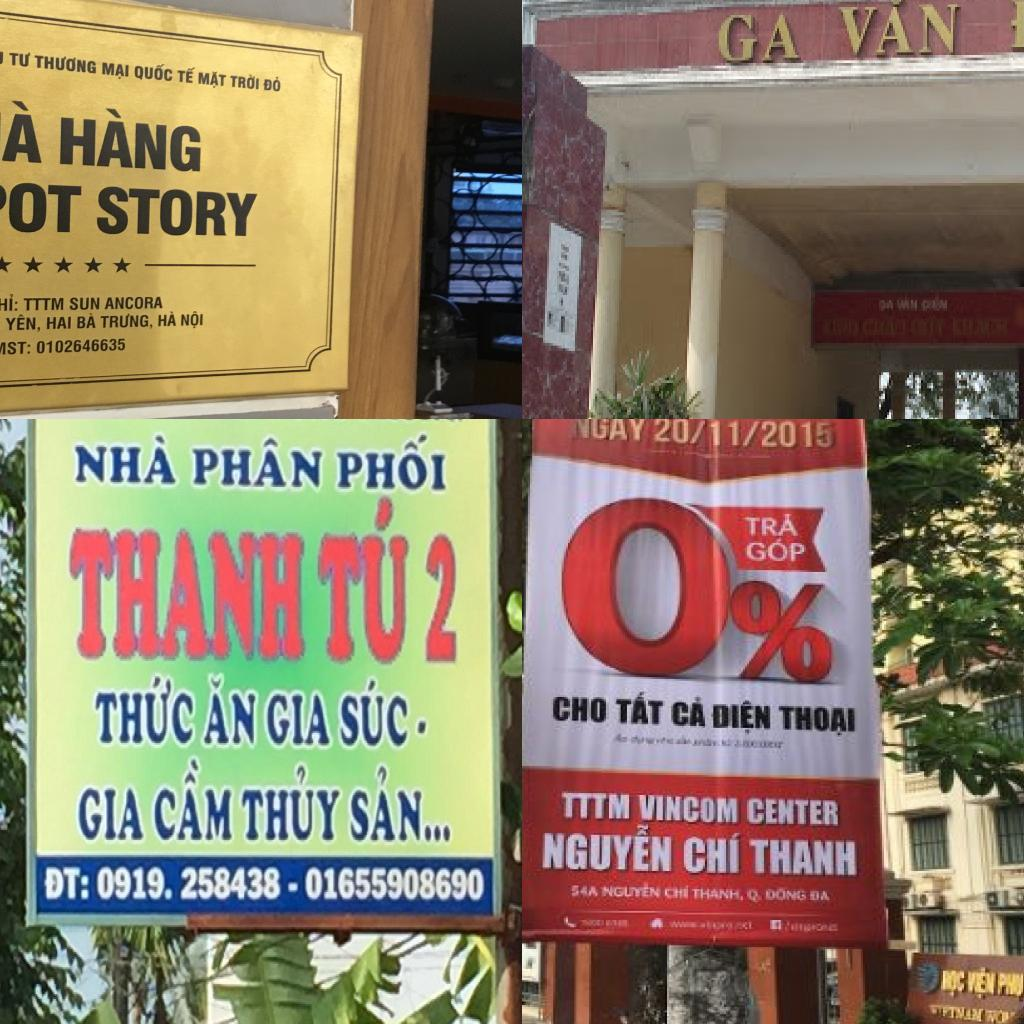text: (67, 520, 311, 664), (558, 492, 732, 683), (310, 497, 414, 669), (147, 145, 224, 328), (730, 581, 836, 686), (344, 756, 455, 850), (238, 758, 347, 852), (51, 53, 143, 163), (32, 174, 131, 270), (95, 858, 283, 906), (188, 437, 326, 500), (160, 12, 228, 136), (332, 430, 452, 499), (94, 671, 198, 750), (151, 752, 235, 848), (835, 0, 963, 60), (416, 520, 467, 670), (540, 818, 676, 874), (72, 428, 181, 490), (652, 419, 839, 452), (336, 674, 412, 753), (261, 679, 337, 753), (715, 10, 807, 68), (75, 780, 151, 845), (202, 668, 260, 751), (747, 837, 861, 878), (635, 793, 741, 826), (745, 797, 842, 829), (776, 704, 858, 740), (682, 831, 745, 877), (709, 697, 775, 737), (565, 419, 654, 445), (560, 790, 633, 820), (614, 688, 667, 728), (741, 510, 804, 540), (551, 693, 608, 726), (44, 865, 91, 905), (745, 538, 810, 564), (363, 111, 384, 180), (669, 695, 709, 730), (602, 880, 665, 902), (747, 886, 808, 907), (966, 967, 998, 1002), (995, 970, 1024, 1005), (330, 90, 353, 133), (690, 887, 747, 904), (334, 206, 356, 249), (308, 83, 326, 129), (330, 176, 358, 204), (366, 182, 388, 213), (0, 76, 22, 106), (309, 158, 328, 190), (948, 970, 968, 1000), (6, 36, 32, 59), (8, 12, 34, 35), (0, 133, 12, 182), (310, 219, 334, 243), (304, 193, 328, 217), (326, 53, 353, 72), (570, 884, 602, 900), (332, 264, 358, 283), (665, 884, 692, 902), (0, 108, 21, 131), (308, 131, 327, 155), (808, 889, 836, 904), (415, 715, 432, 738), (0, 58, 24, 74), (334, 153, 353, 172), (284, 877, 302, 897), (327, 73, 349, 89), (329, 134, 352, 149), (11, 0, 37, 10), (337, 253, 358, 261)
